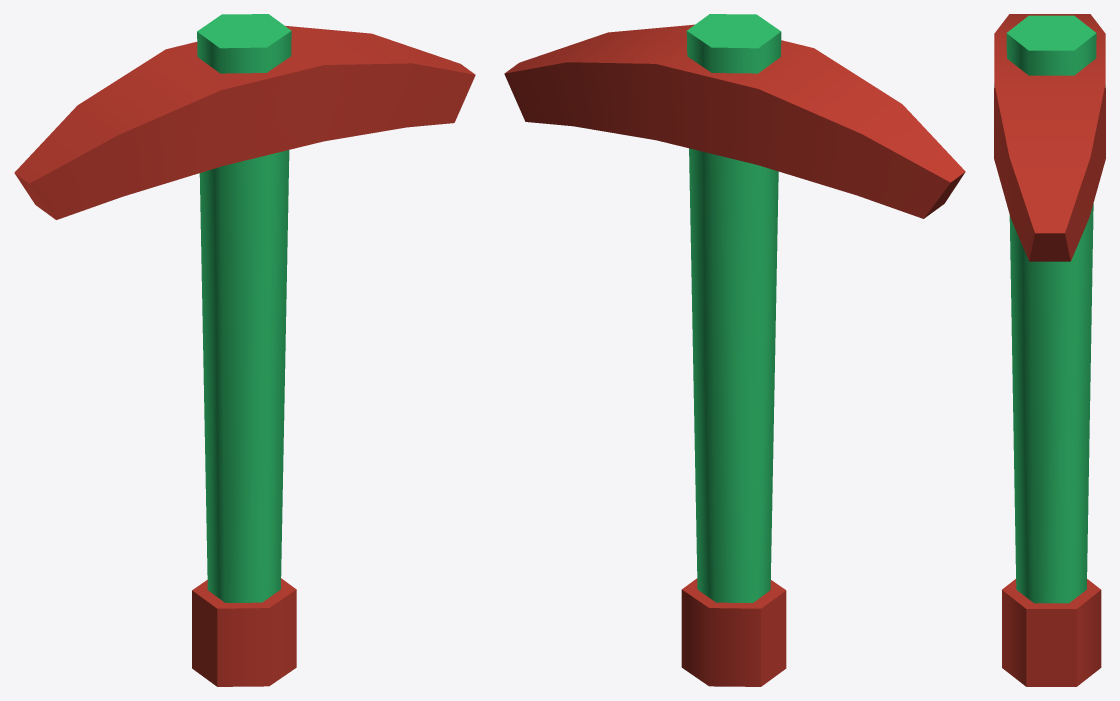
The model's file is Miner_pick.fbx.
3 renders of one model, left to right at view 1: azimuth 30°, elevation 25°; view 2: azimuth 150°, elevation 25°; view 3: azimuth 270°, elevation 25°, orthographic.
Visible parts, largest first — view 1: Miner_pick_01; view 2: Miner_pick_01; view 3: Miner_pick_01.
Boxes of the visible parts, left/top/right/bottom form: Miner_pick_01: left=14, top=14, right=475, bottom=686; Miner_pick_01: left=504, top=14, right=965, bottom=686; Miner_pick_01: left=994, top=14, right=1105, bottom=686.
Size of the model in its own units: 72.66 by 99.07 by 15.83.
